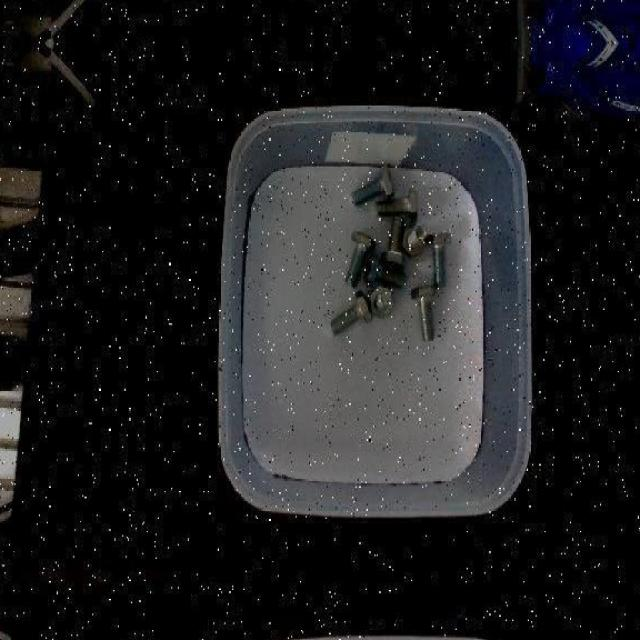screw: (329, 289, 372, 335), (351, 165, 395, 208), (344, 230, 376, 286), (410, 284, 438, 339), (424, 231, 452, 286), (378, 188, 419, 223), (379, 216, 405, 270), (368, 284, 392, 318), (404, 224, 426, 258)
